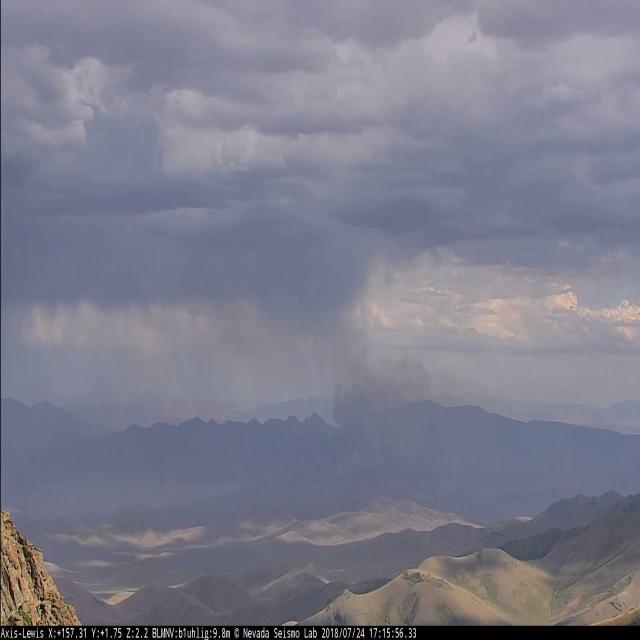smoke: (326, 348, 441, 478)
